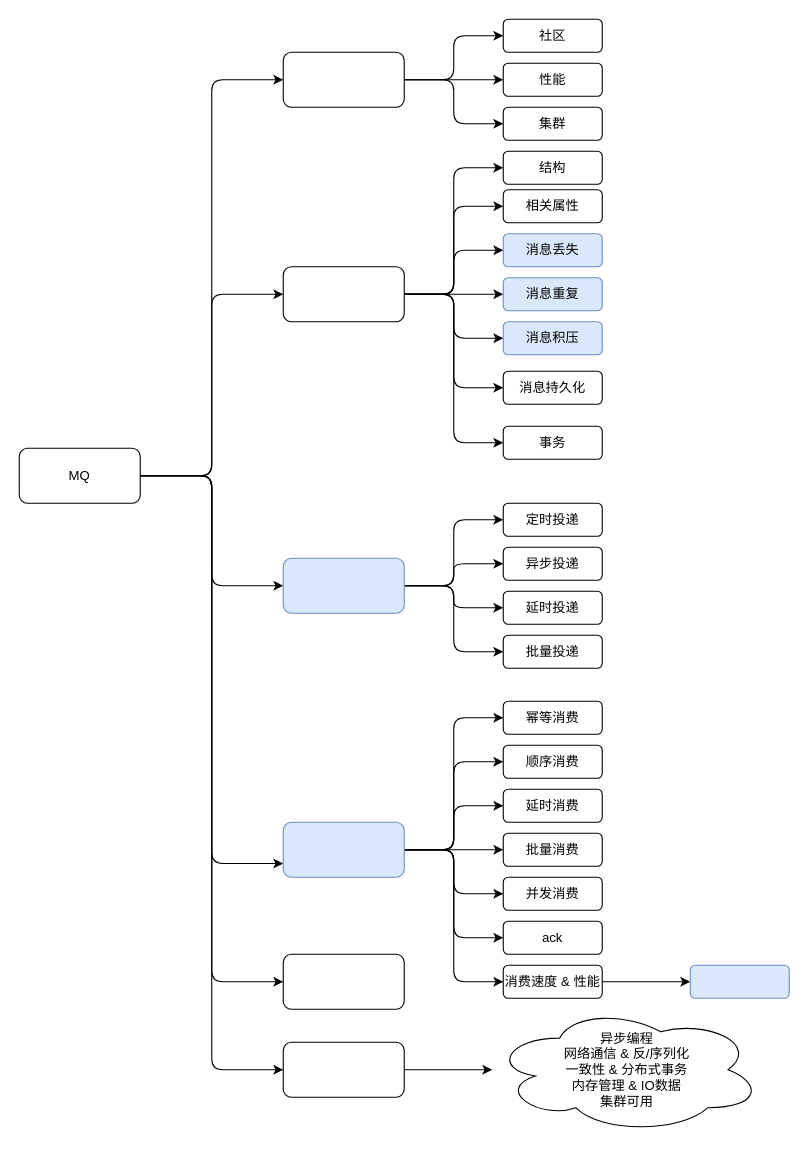
Image size: 809x1153. Some labels were removed from this diagram. Each missing label, with the box of its shape:
分布式: (689, 964, 789, 998)
消息: (282, 266, 404, 322)
消费者: (282, 821, 404, 877)
环境&选型: (282, 51, 404, 107)
生产者: (282, 557, 404, 613)
设计MQ: (282, 1041, 404, 1097)
高可用: (282, 953, 404, 1009)
